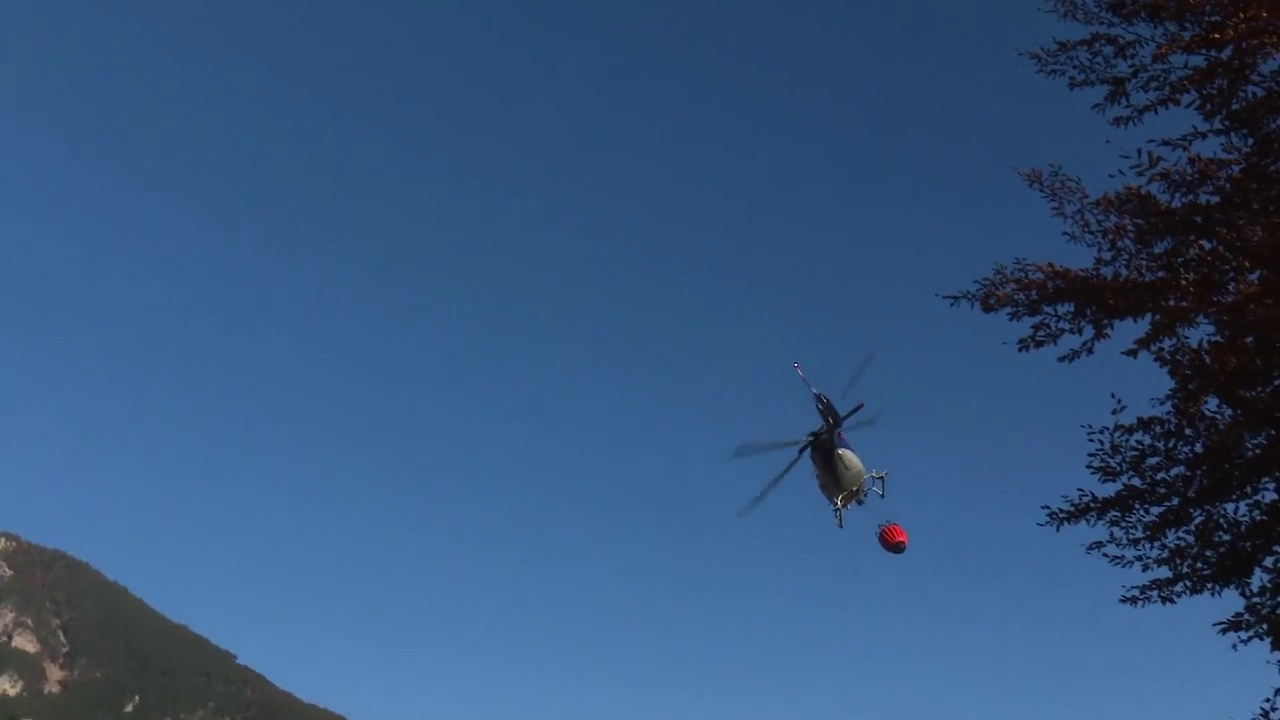heli: (736, 354, 888, 529)
